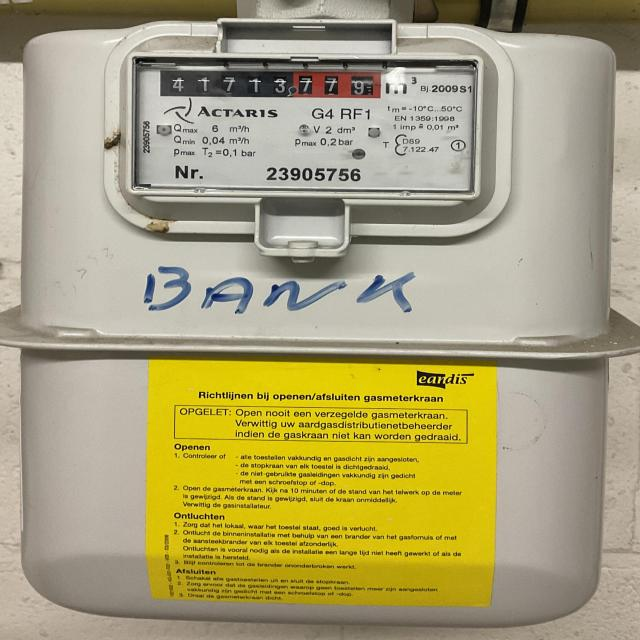gaz_meter: (132, 56, 474, 193)
indication: (161, 69, 382, 98)
